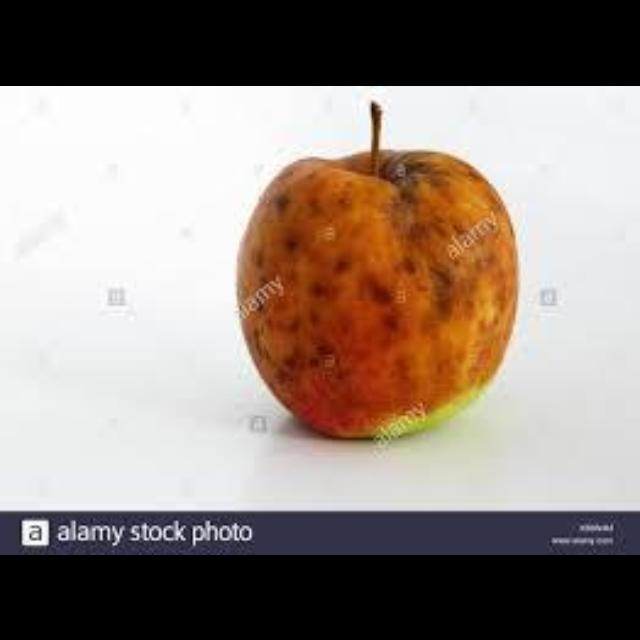apple: (235, 100, 518, 439)
rotten: (241, 152, 514, 433)
